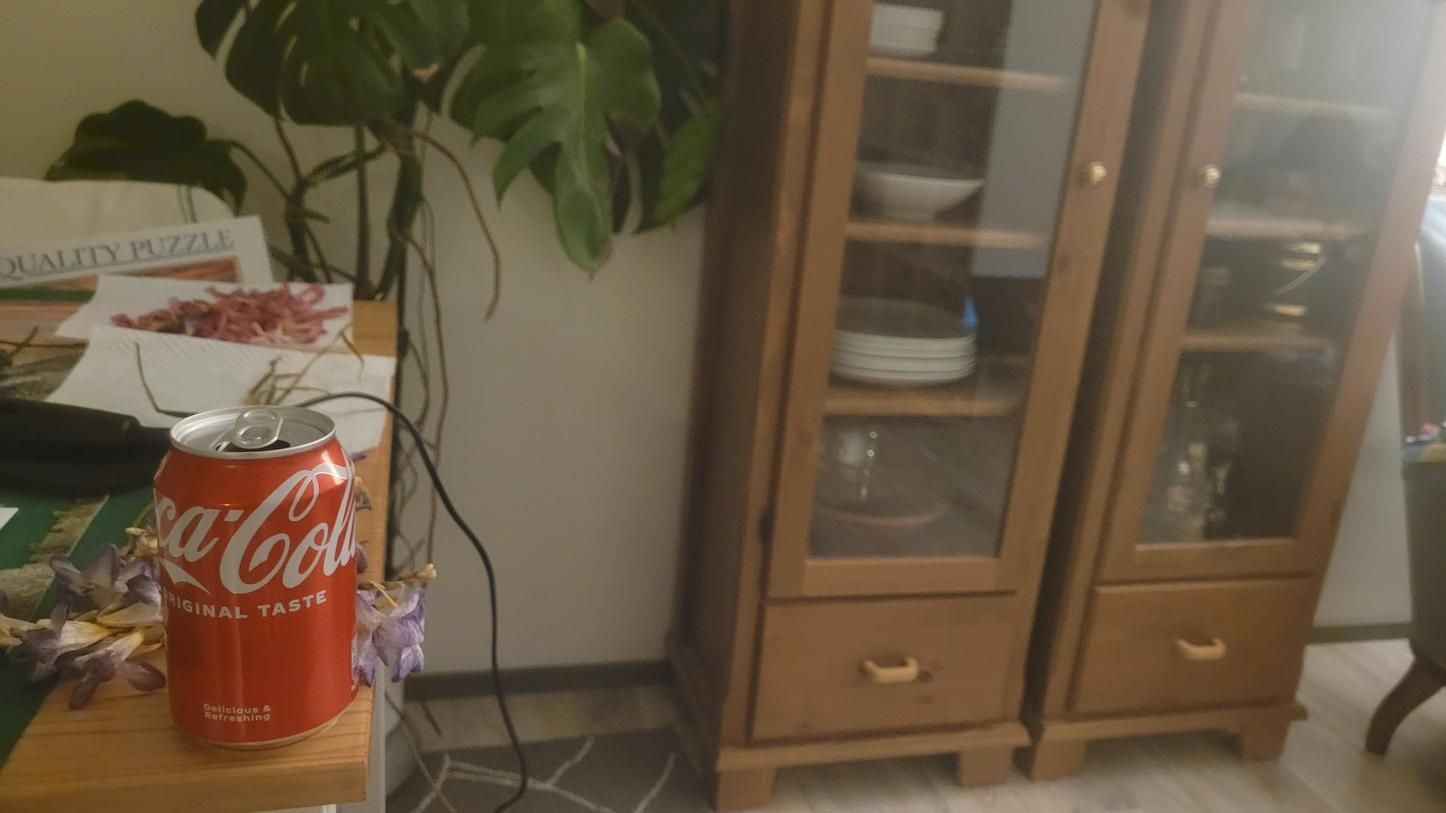Pantburk: (152, 407, 360, 751)
